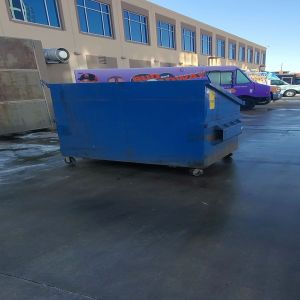Dumpster: (50, 83, 243, 179)
